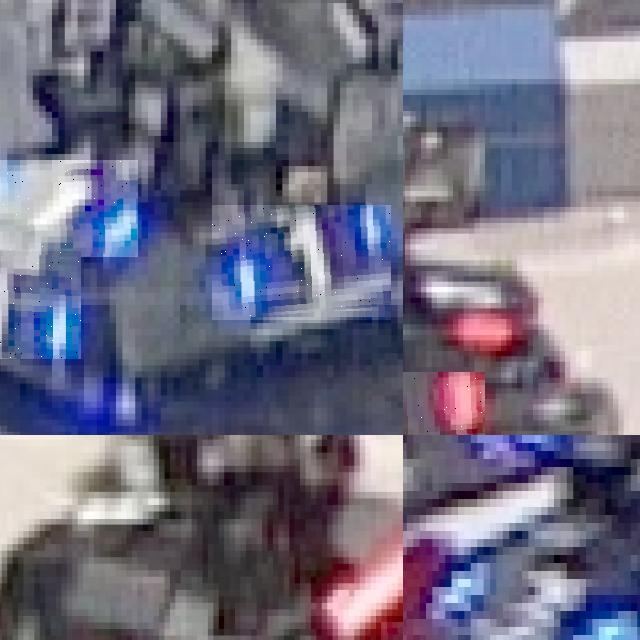B1: (212, 205, 391, 320), (0, 160, 138, 256), (0, 250, 81, 359)
R1: (403, 372, 485, 435)
